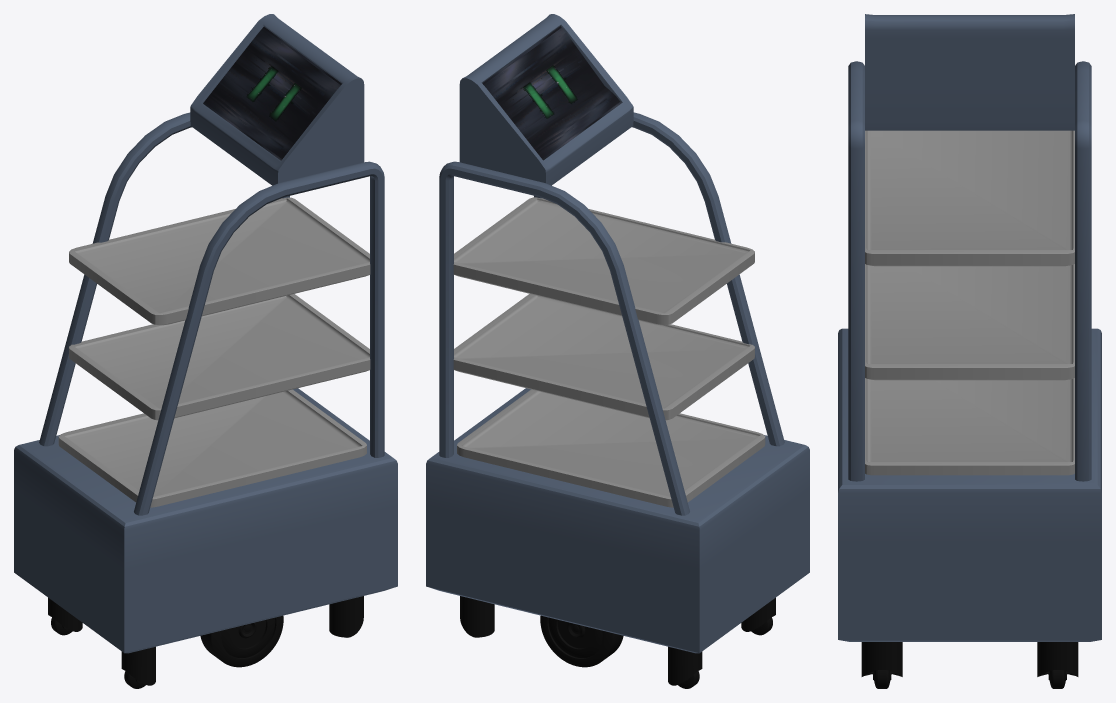
The model's file is Robo taşıyıcı oyun.fbx.
The picture shows the model from 3 angles, left to right: view 1: azimuth 30°, elevation 25°; view 2: azimuth 150°, elevation 25°; view 3: azimuth 270°, elevation 25°; orthographic projection. The views are drawn at different scales.
Parts seen in each view (by area): view 1: Cylinder.001; view 2: Cylinder.001; view 3: Cylinder.001.
Boxes of the visible parts, box(x1,y1,x2,y2) form: Cylinder.001: box(14, 14, 397, 688); Cylinder.001: box(426, 14, 809, 688); Cylinder.001: box(838, 14, 1101, 688).
Bounding box in the file's own units: 256 × 366 × 721.
